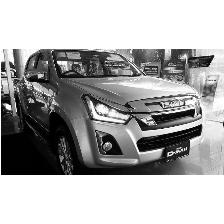NON-EV: (13, 50, 206, 176)
